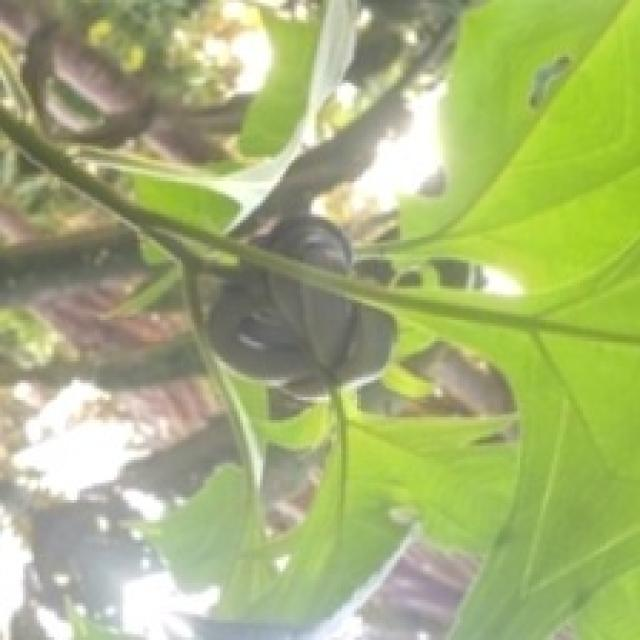red-tailed green ratsnake: (208, 266, 392, 399), (268, 215, 351, 272)
